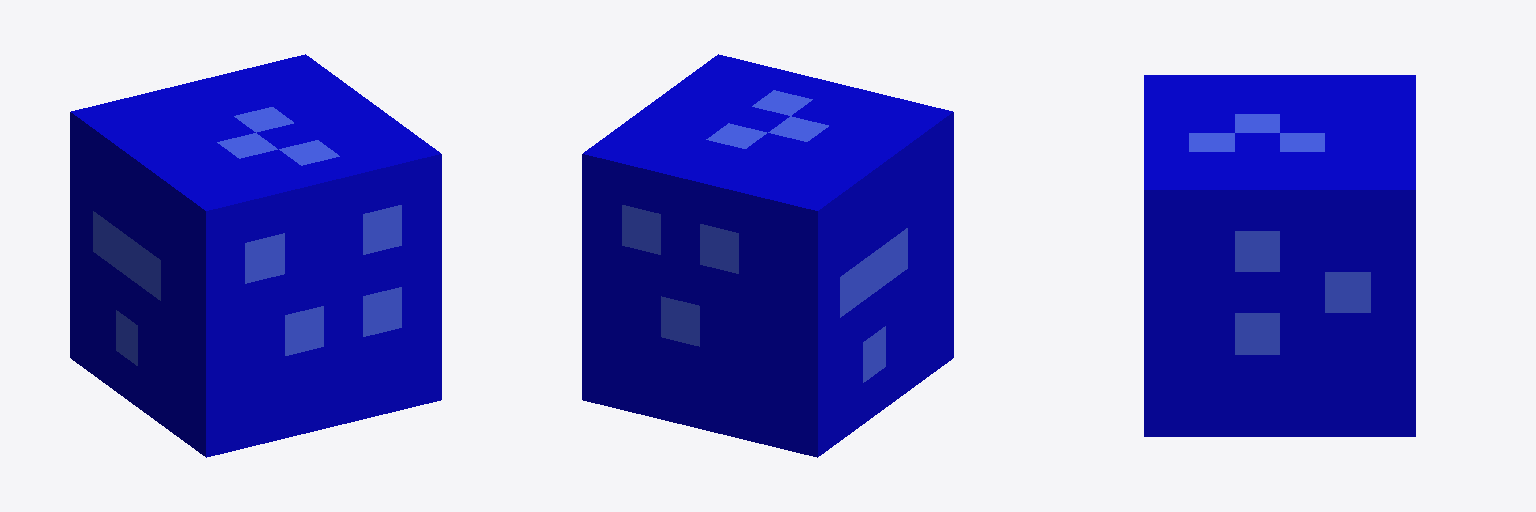
The picture shows the model from 3 angles: view 1: azimuth 30°, elevation 25°; view 2: azimuth 150°, elevation 25°; view 3: azimuth 270°, elevation 25°; orthographic projection.
Size of the model in its own units: 6 by 6 by 6.
1 materials, 1 textured.